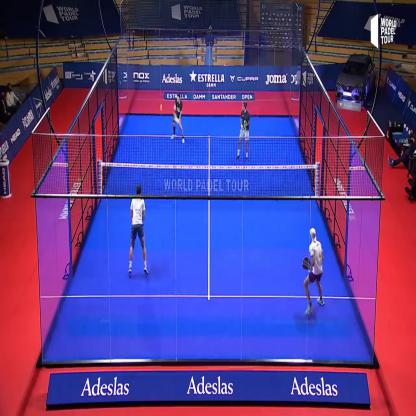ball: (156, 100, 166, 114)
